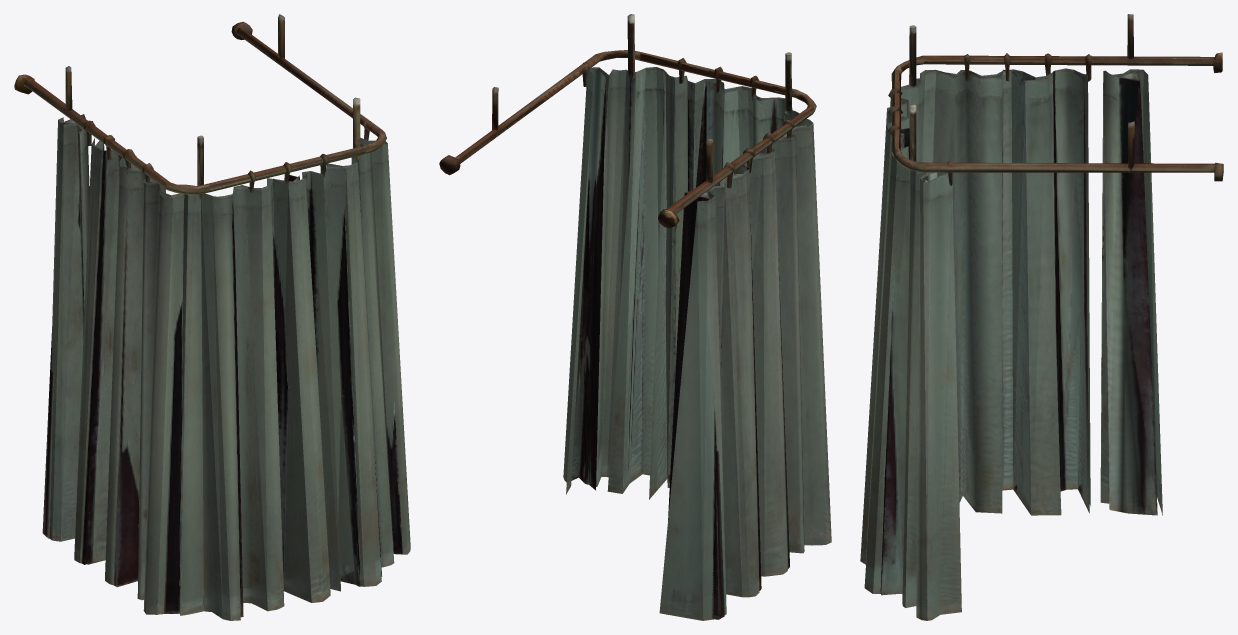
Rendered from polluted‑privacy_curtain.fbx.
The picture shows the model from 3 angles, left to right: view 1: azimuth 30°, elevation 25°; view 2: azimuth 150°, elevation 25°; view 3: azimuth 270°, elevation 25°; orthographic projection. The views are drawn at different scales.
Visible parts, largest first — view 1: polluted‑privacy_curtain; view 2: polluted‑privacy_curtain; view 3: polluted‑privacy_curtain.
Part boxes in pixels (x1,y1,x2,y2): polluted‑privacy_curtain: [14, 14, 410, 620]; polluted‑privacy_curtain: [439, 14, 831, 620]; polluted‑privacy_curtain: [860, 14, 1223, 620].
Size of the model in its own units: 427 by 722 by 490.
1 material, 1 textured.
